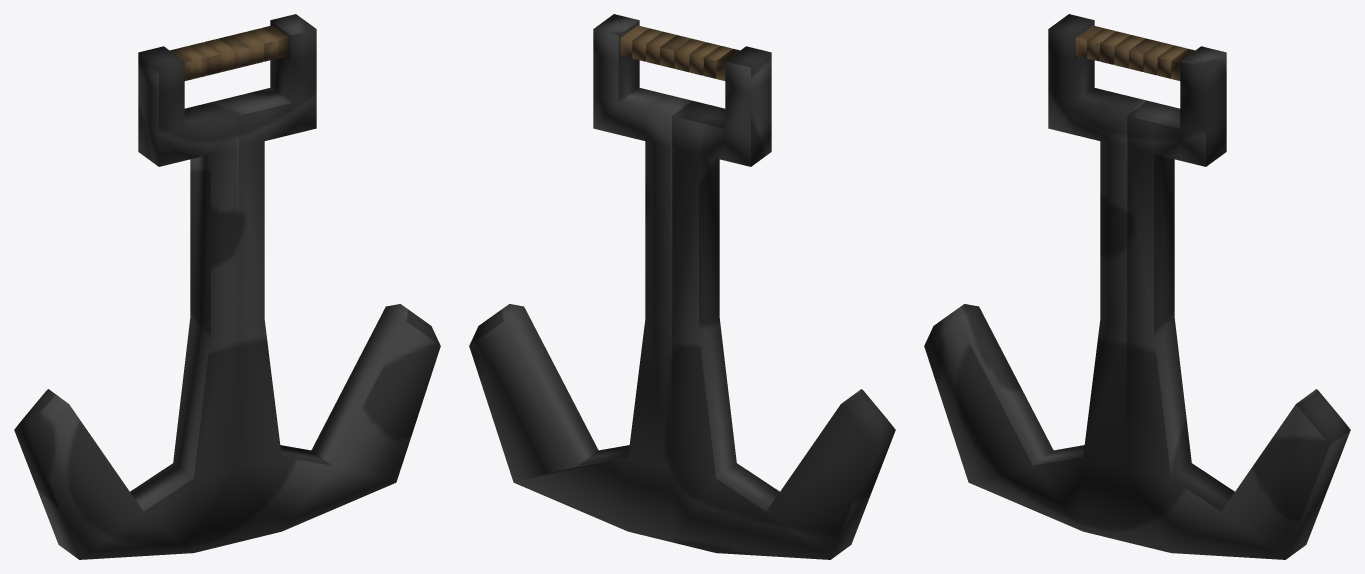
Rendered from item-anchor.glb.
The picture shows the model from 3 angles, left to right: view 1: azimuth 30°, elevation 25°; view 2: azimuth 150°, elevation 25°; view 3: azimuth 330°, elevation 25°; orthographic projection.
Bounding box in the file's own units: 6.05 × 7.03 × 0.5367.
2 materials, 2 textured.
